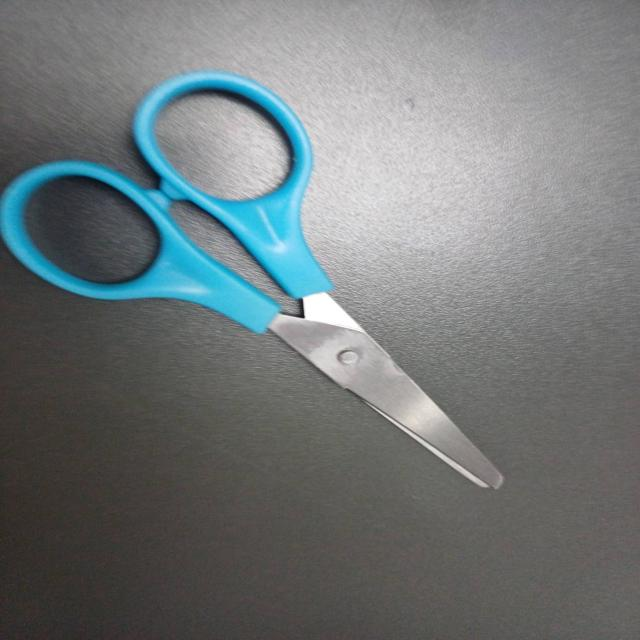scissors: (0, 63, 520, 501)
